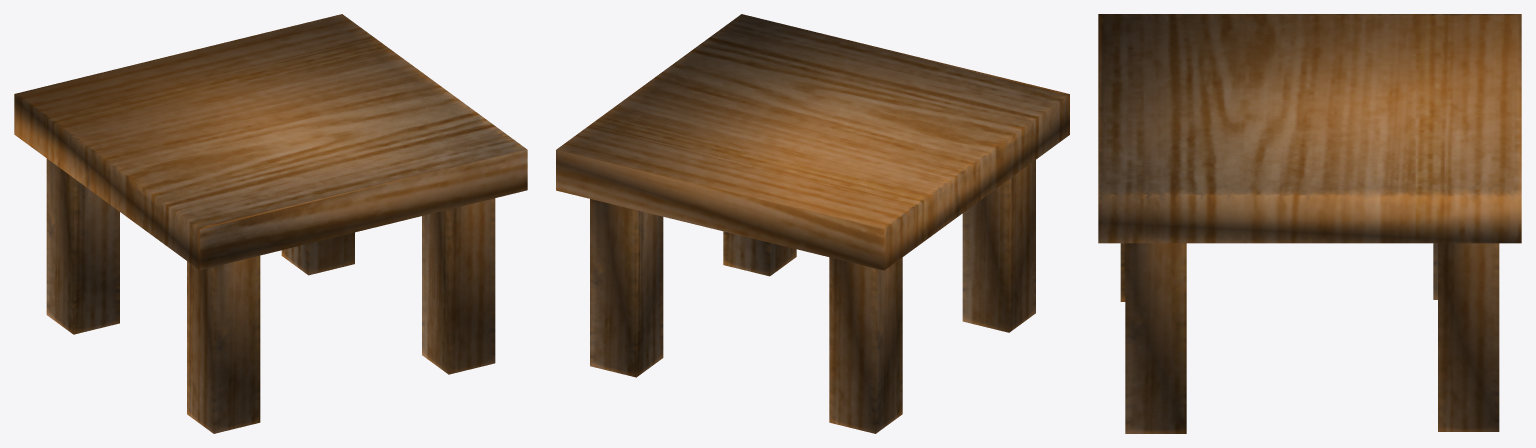
Rendered from chair.fbx.
3 views of the same model, side by side, from view 1: azimuth 30°, elevation 25°; view 2: azimuth 150°, elevation 25°; view 3: azimuth 270°, elevation 25° (orthographic). The views are drawn at different scales.
Parts seen in each view (by area): view 1: chair; view 2: chair; view 3: chair.
Part boxes in pixels (bbox=[...]): chair: bbox=[14, 14, 527, 433]; chair: bbox=[556, 14, 1069, 433]; chair: bbox=[1098, 14, 1521, 433].
Bounding box in the file's own units: 0.7499 × 0.4754 × 0.734.
